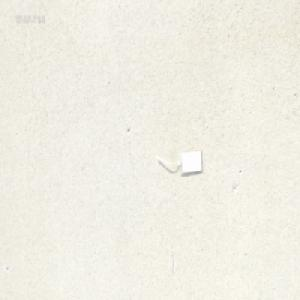LuggageTag: (155, 148, 202, 174)
